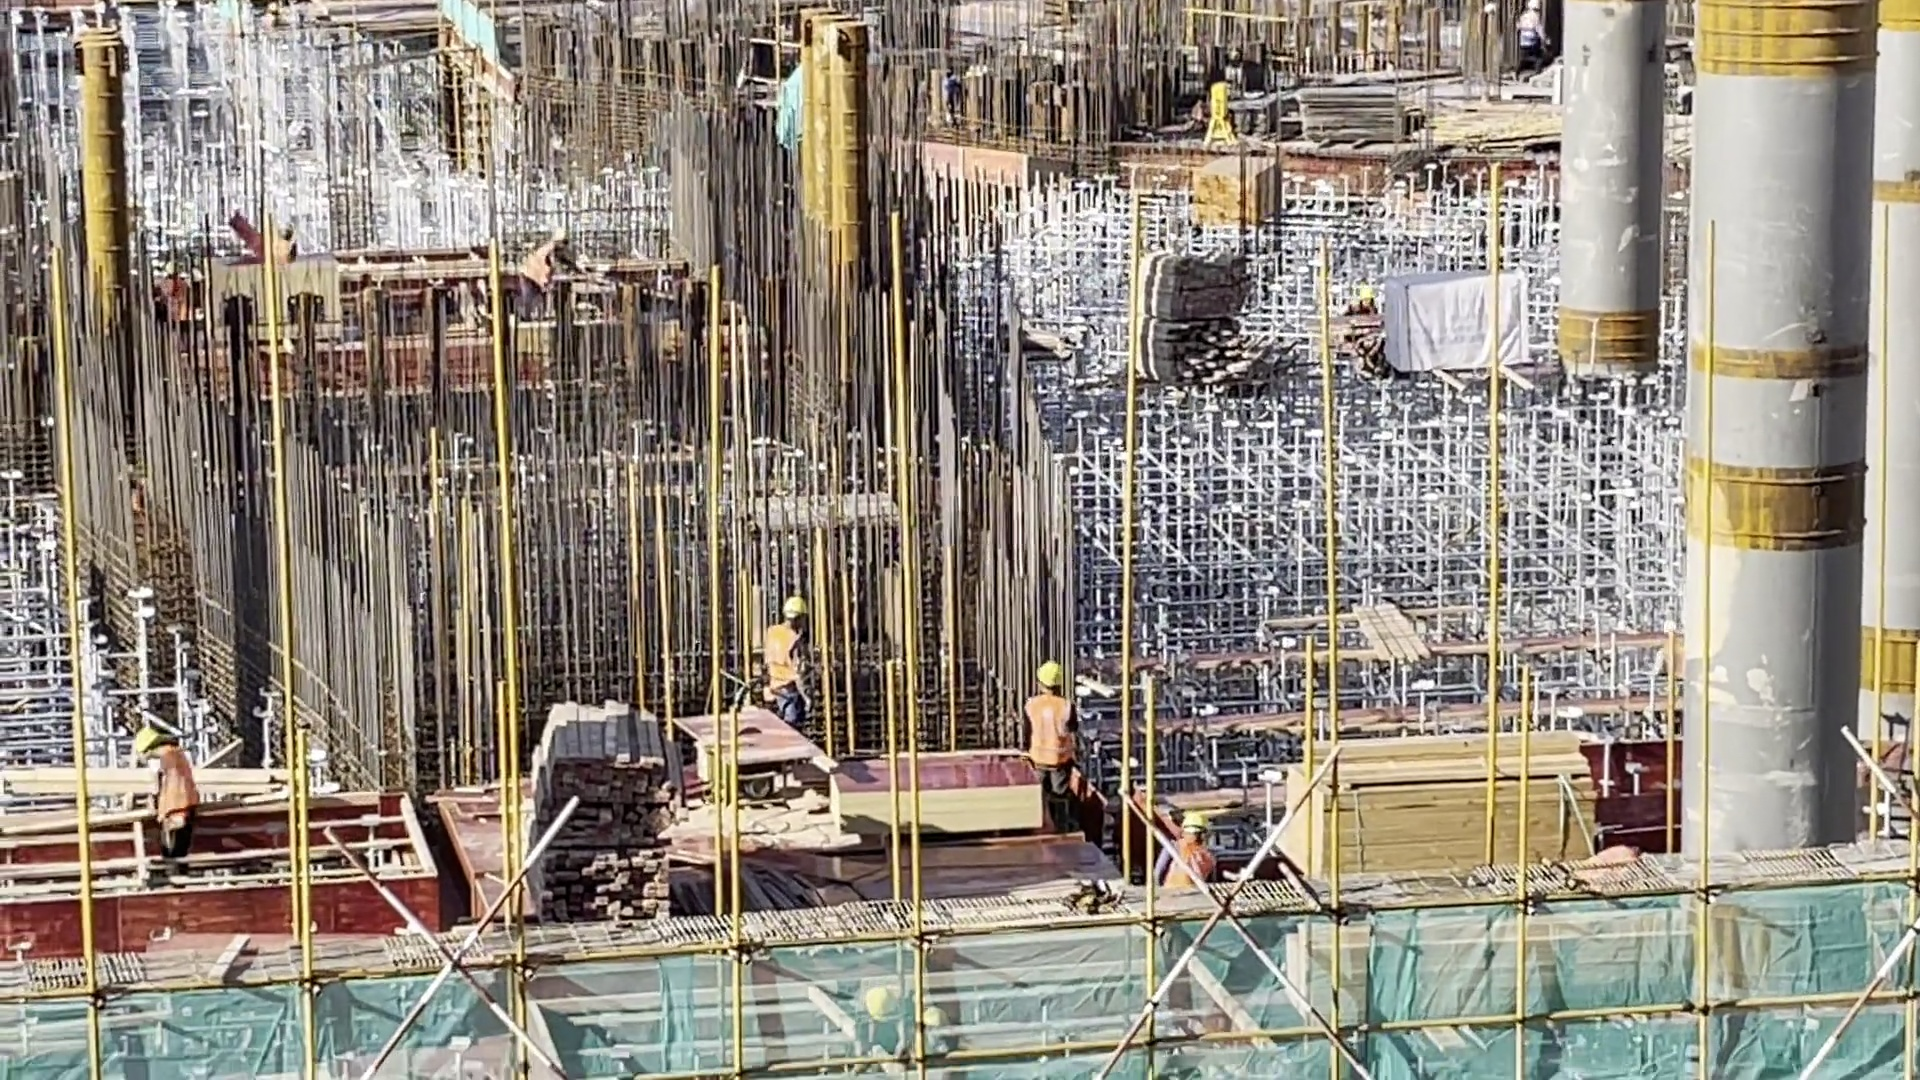helmet: (1036, 659, 1068, 691), (132, 726, 160, 753), (783, 597, 807, 622), (1185, 814, 1209, 831), (548, 225, 570, 242)
person: (1015, 658, 1084, 824), (126, 724, 204, 856), (757, 595, 815, 725), (511, 226, 575, 310), (1517, 3, 1551, 76), (274, 219, 299, 259)
vest: (1025, 694, 1074, 771), (152, 747, 202, 817), (764, 627, 803, 690), (518, 243, 557, 291), (1516, 13, 1543, 53), (273, 240, 296, 259)
